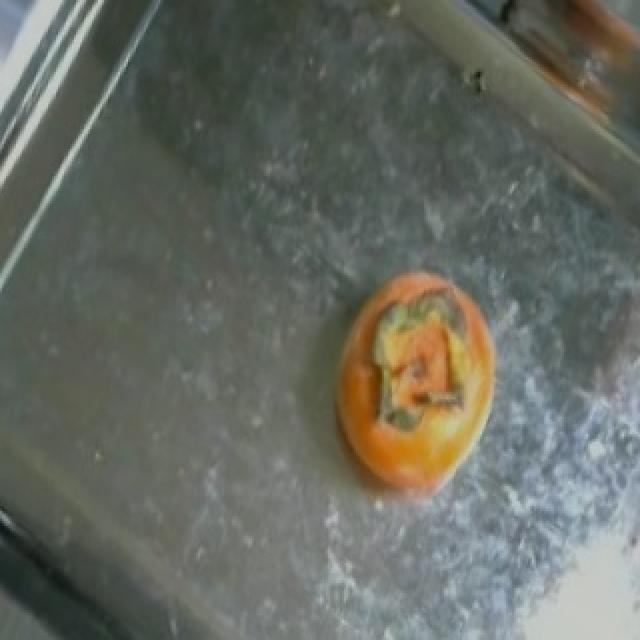Fruit: (310, 250, 522, 531)
